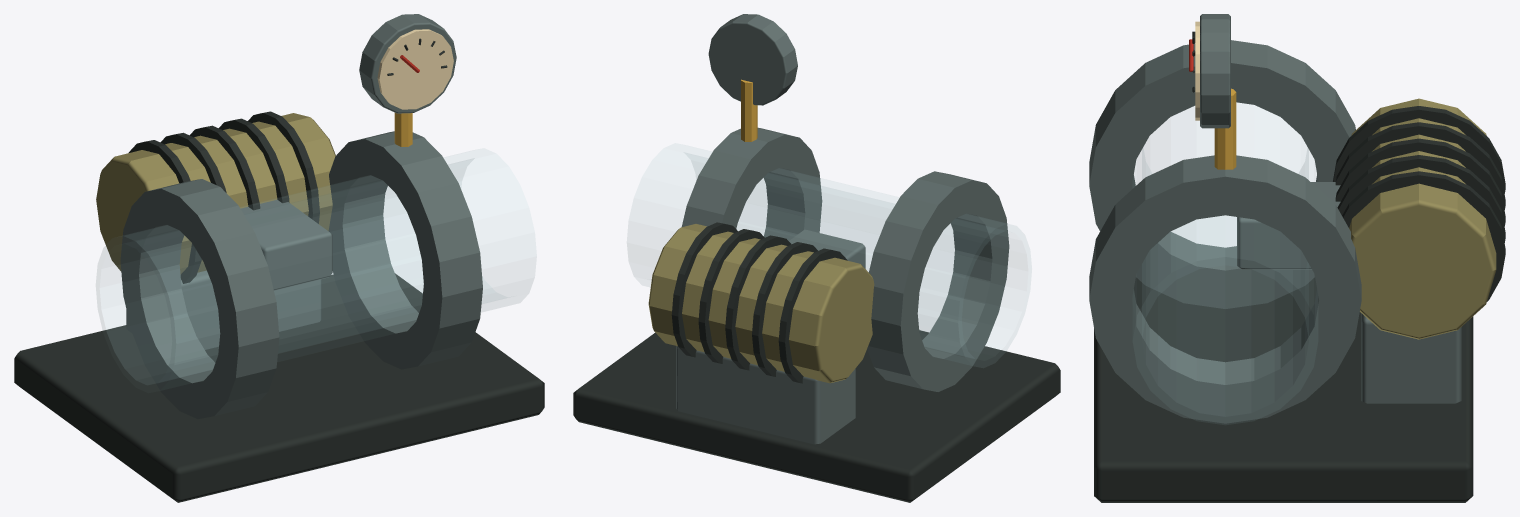
File: PipePump.glb
The picture shows the model from 3 angles, left to right: view 1: azimuth 30°, elevation 25°; view 2: azimuth 150°, elevation 25°; view 3: azimuth 270°, elevation 25°; orthographic projection. The views are drawn at different scales.
Visible parts, largest first — view 1: PipePump; view 2: PipePump; view 3: PipePump.
Boxes of the visible parts, left/top/right/bottom form: PipePump: left=14, top=14, right=544, bottom=502; PipePump: left=573, top=14, right=1060, bottom=502; PipePump: left=1089, top=14, right=1505, bottom=502.
Bounding box in the file's own units: 0.65 × 0.624 × 0.538.
